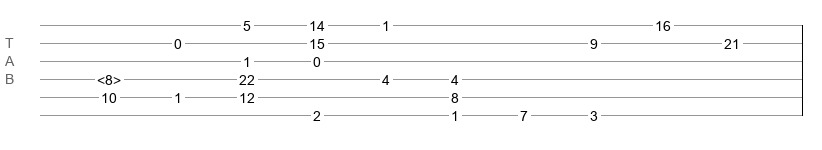0: (174, 36, 182, 46), (313, 54, 321, 64)
1: (174, 90, 182, 100), (243, 54, 251, 64), (382, 18, 390, 28), (451, 108, 459, 118)
10: (101, 90, 117, 100)
12: (239, 90, 255, 100)
14: (309, 18, 325, 28)
15: (309, 36, 325, 46)
16: (655, 18, 671, 28)
2: (313, 108, 321, 118)
21: (724, 36, 740, 46)
22: (239, 72, 255, 82)
3: (590, 108, 598, 118)
4: (382, 72, 390, 82), (451, 72, 459, 82)
5: (243, 18, 251, 28)
7: (520, 108, 528, 118)
8: (451, 90, 459, 100)
9: (590, 36, 598, 46)
harmonic: (97, 72, 121, 82)
